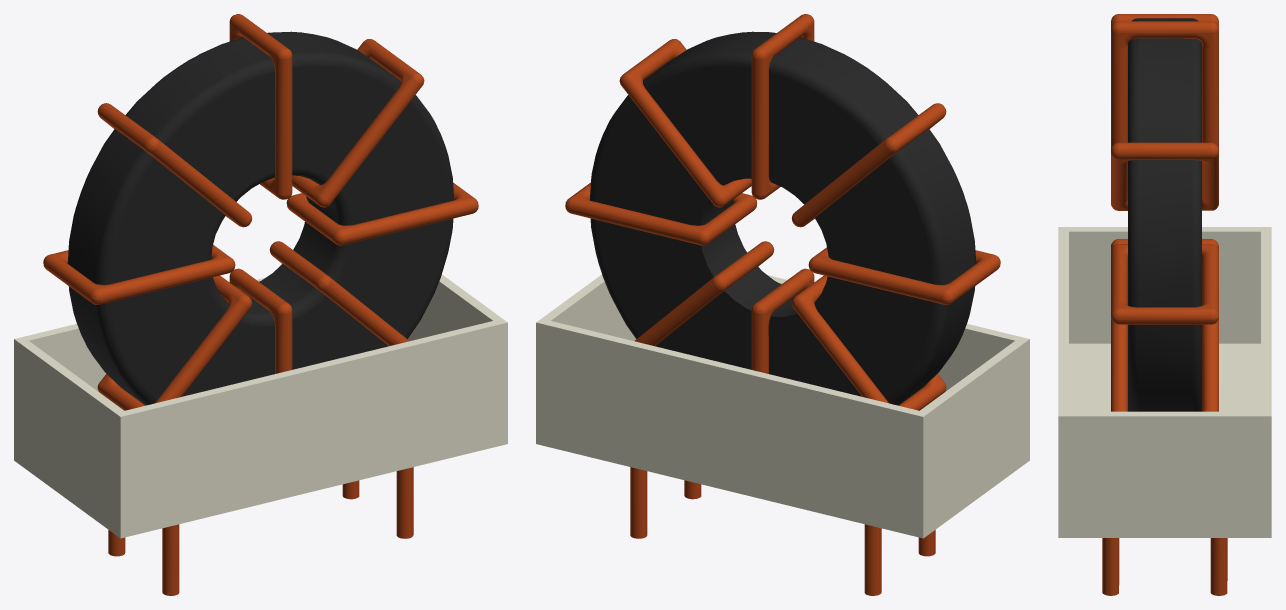
Rendered from kc-l_commonmode_toroid_vertical_l21.0mm_w10.0mm_px5.08mm_py12.70mm_murata_5100.glb.
3 renders of one model, left to right at view 1: azimuth 30°, elevation 25°; view 2: azimuth 150°, elevation 25°; view 3: azimuth 270°, elevation 25°, orthographic.
Parts seen in each view (by area): view 1: 0_0_0_0, 0.75_0.75_0.6666666666666666_0, 0.4166666666666667_0.08333333333333333_0_0; view 2: 0_0_0_0, 0.75_0.75_0.6666666666666666_0, 0.4166666666666667_0.08333333333333333_0_0; view 3: 0.75_0.75_0.6666666666666666_0, 0_0_0_0, 0.4166666666666667_0.08333333333333333_0_0.
Boxes of the visible parts, bbox=[...] form: 0_0_0_0: bbox=[67, 31, 453, 405]; 0.75_0.75_0.6666666666666666_0: bbox=[14, 274, 507, 538]; 0.4166666666666667_0.08333333333333333_0_0: bbox=[43, 14, 478, 595]; 0_0_0_0: bbox=[590, 31, 976, 405]; 0.75_0.75_0.6666666666666666_0: bbox=[536, 274, 1029, 538]; 0.4166666666666667_0.08333333333333333_0_0: bbox=[565, 14, 1000, 595]; 0.75_0.75_0.6666666666666666_0: bbox=[1058, 227, 1271, 537]; 0_0_0_0: bbox=[1128, 18, 1201, 411]; 0.4166666666666667_0.08333333333333333_0_0: bbox=[1102, 14, 1227, 595].
Bounding box in the file's own units: 2.1 × 2.65 × 0.9999.
